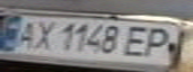1: (69, 20, 90, 53), (54, 19, 75, 52)
4: (84, 21, 106, 54)
8: (100, 21, 127, 56)
A: (9, 17, 42, 50)
E: (121, 24, 157, 58)
P: (136, 25, 181, 60)
X: (27, 18, 60, 52)
